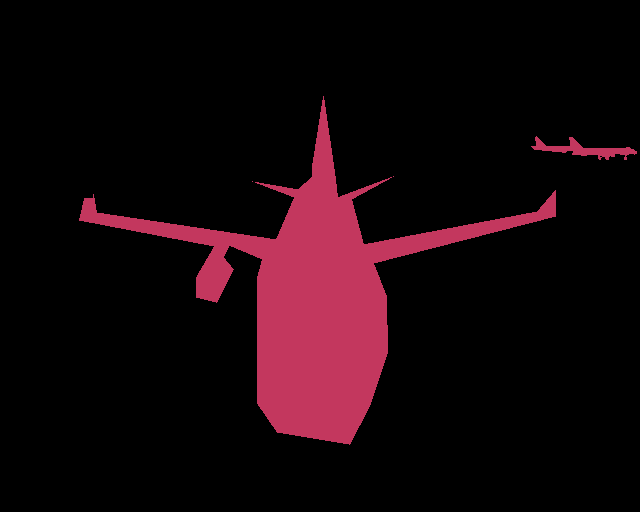Airplane: (79, 96, 556, 445), (566, 137, 636, 160), (531, 136, 572, 153)
